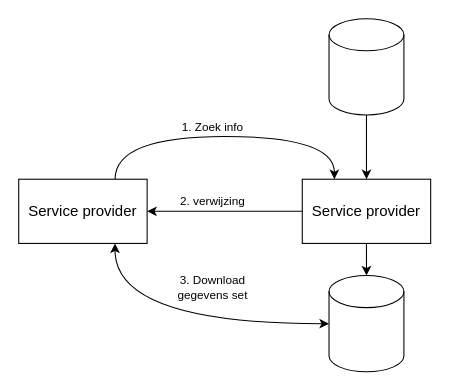
Image size: 449x391. Some labels were removed from this diagram. The shapes that lost their labels are listed below. From the top down, each one's box as (x1, y1, x2, y2) in pixels, then its label:
(328, 18, 404, 115): data
(328, 274, 404, 372): gegevens set
